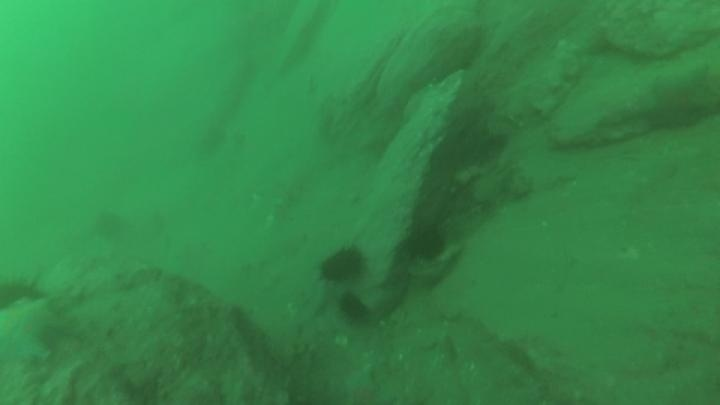echinus: (317, 243, 368, 286), (0, 272, 49, 314), (404, 221, 450, 264), (335, 290, 372, 325), (91, 208, 128, 241)
starfish: (642, 63, 719, 133), (0, 295, 61, 368), (334, 363, 388, 405)
